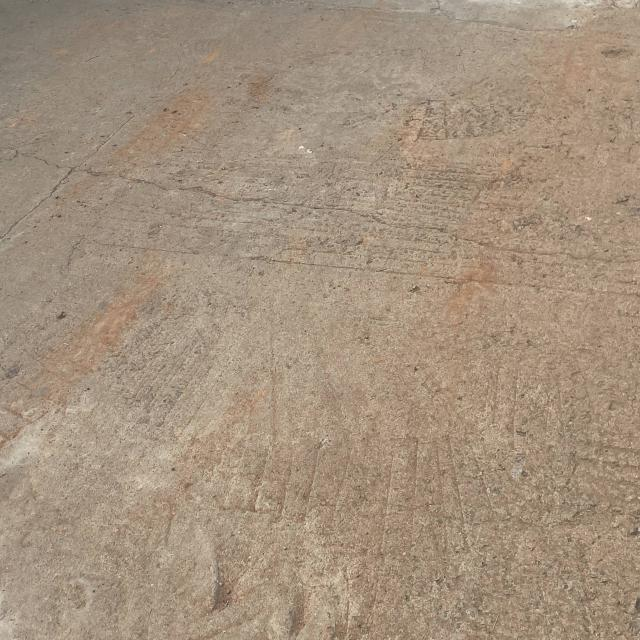D11: (100, 127, 524, 319)
